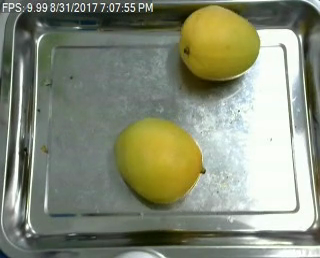Mango: (115, 117, 202, 203), (179, 6, 260, 78)
